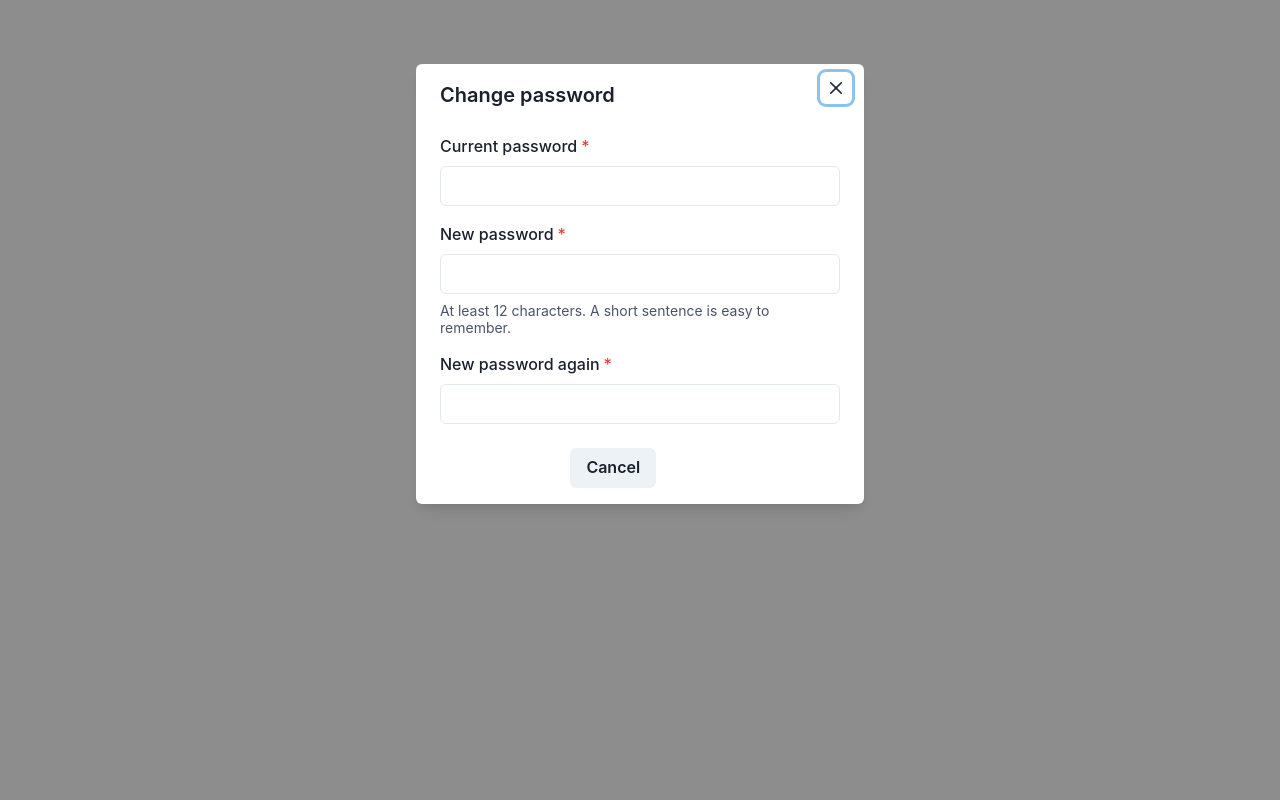
Test: ChangePasswordDialog › will not submit until the new password is long enough and typed twice the same
Type "old-password-123" into the password field labelled "Current password*".
click(640, 186); type("old-password-123")  # box [440,166,840,206]
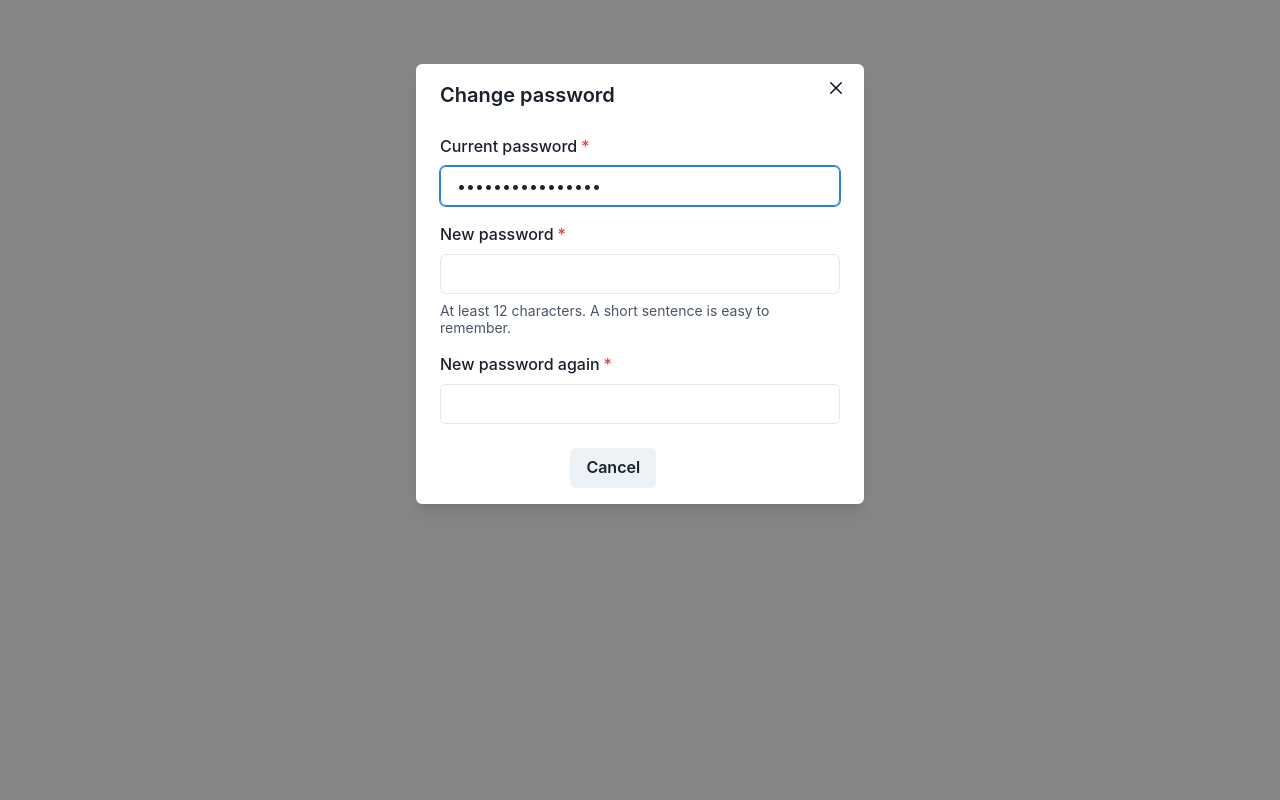
Type "short" into the password field labelled "New password*".
click(640, 274); type("short")  # box [440,254,840,294]
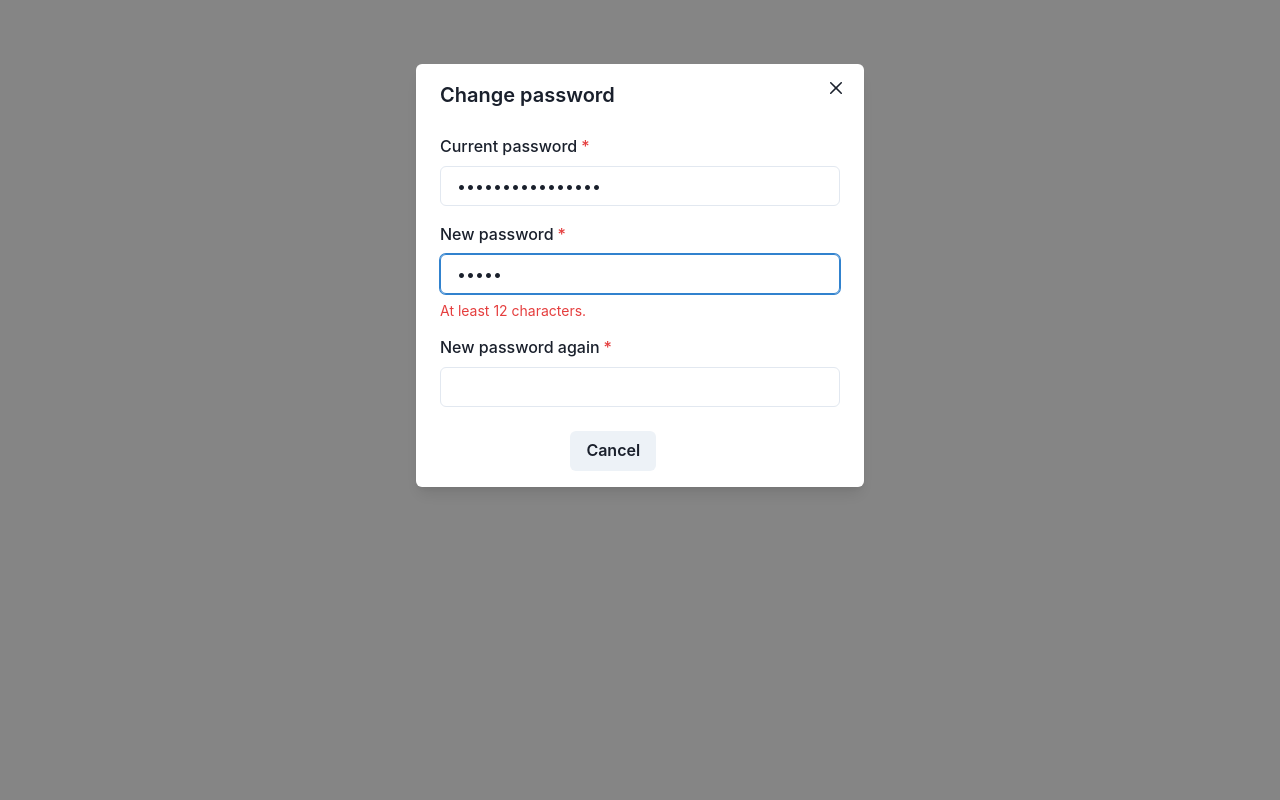
Type "a-brand-new-passphrase" into the password field labelled "New password*".
click(640, 274); type("a-brand-new-passphrase")  # box [440,254,840,294]
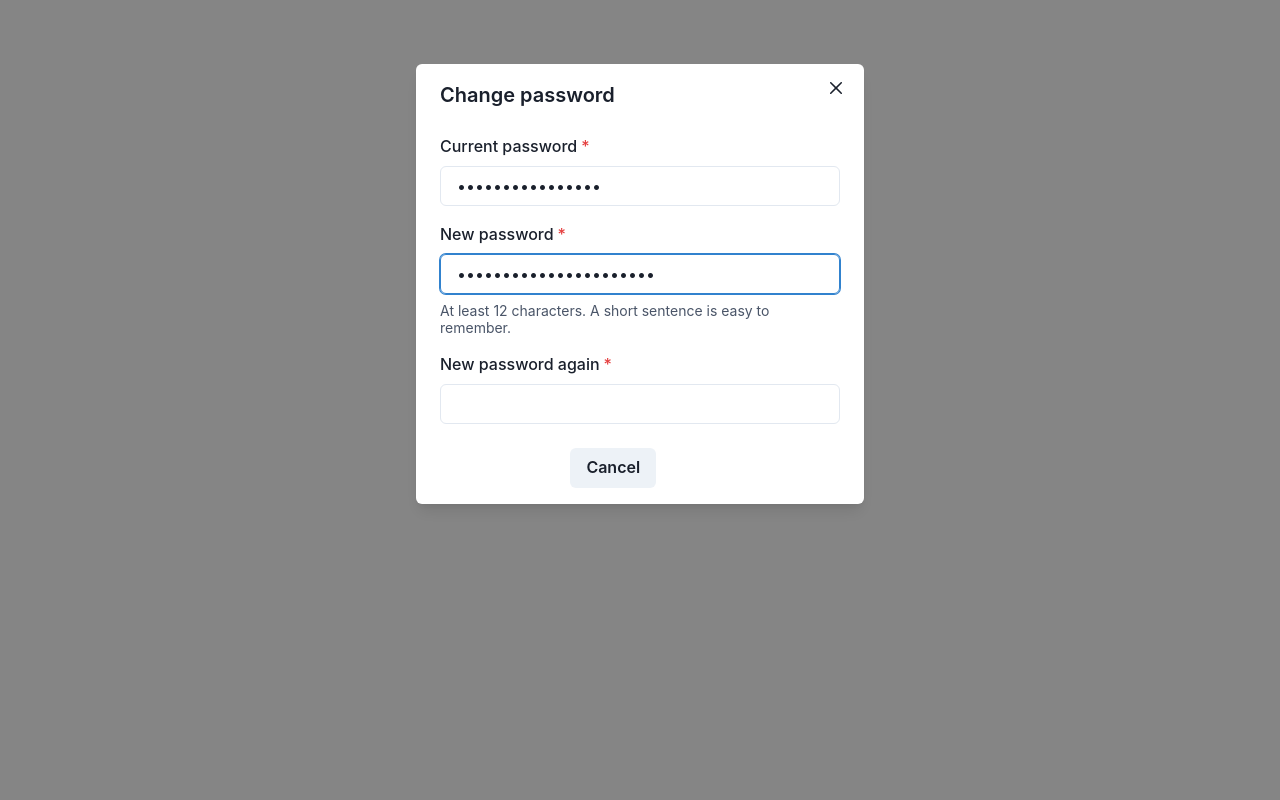
Type "a-different-passphrase" into the password field labelled "New password again*".
click(640, 404); type("a-different-passphrase")  # box [440,384,840,424]
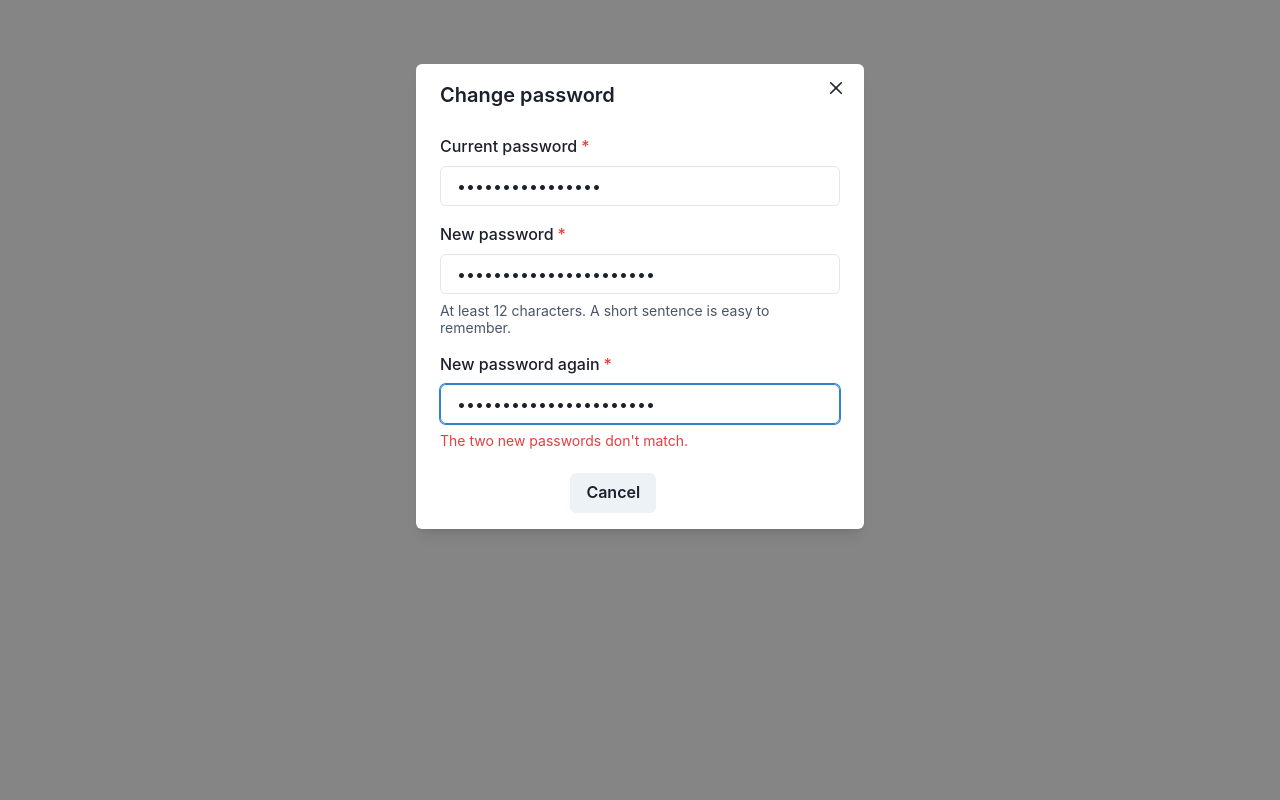
Check: the text "The two new passwords don't match." is shown, box [440,432,688,449]
